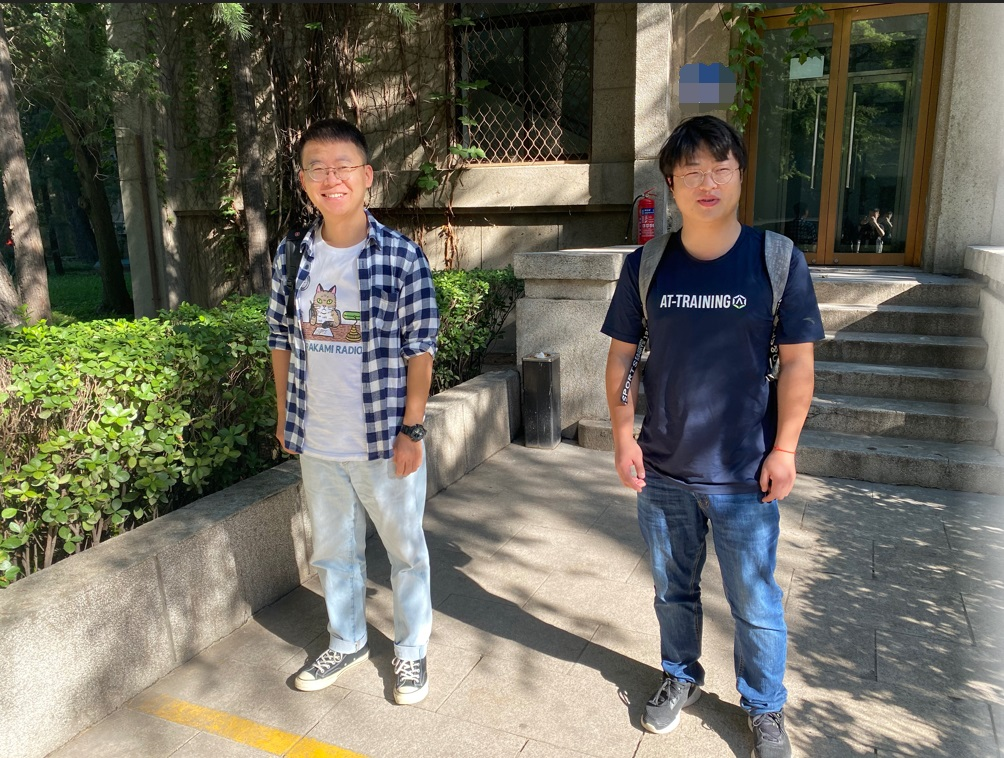body: (596, 114, 830, 758), (254, 115, 448, 708)
head: (650, 115, 764, 218), (278, 116, 384, 219)
l_foot: (727, 694, 802, 758), (382, 643, 442, 703)
l_hand: (748, 444, 810, 507), (380, 422, 437, 480)
neck: (297, 187, 376, 257), (671, 192, 752, 259)
r_foot: (630, 664, 708, 740), (294, 622, 372, 691)
r_hand: (600, 439, 660, 501), (257, 412, 311, 467)
waist: (311, 424, 393, 502), (668, 456, 746, 532)
